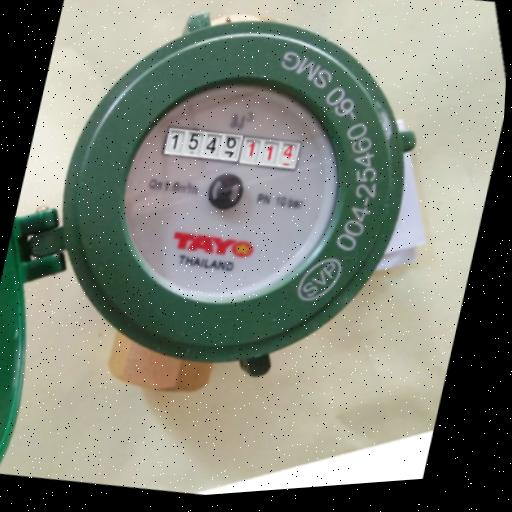1: (165, 129, 184, 153), (260, 140, 278, 164), (241, 138, 259, 161)
4: (277, 142, 295, 167), (202, 133, 220, 156)
5: (184, 131, 202, 155)
6: (221, 135, 239, 159)
border_water_meter_number: (158, 114, 304, 182)
